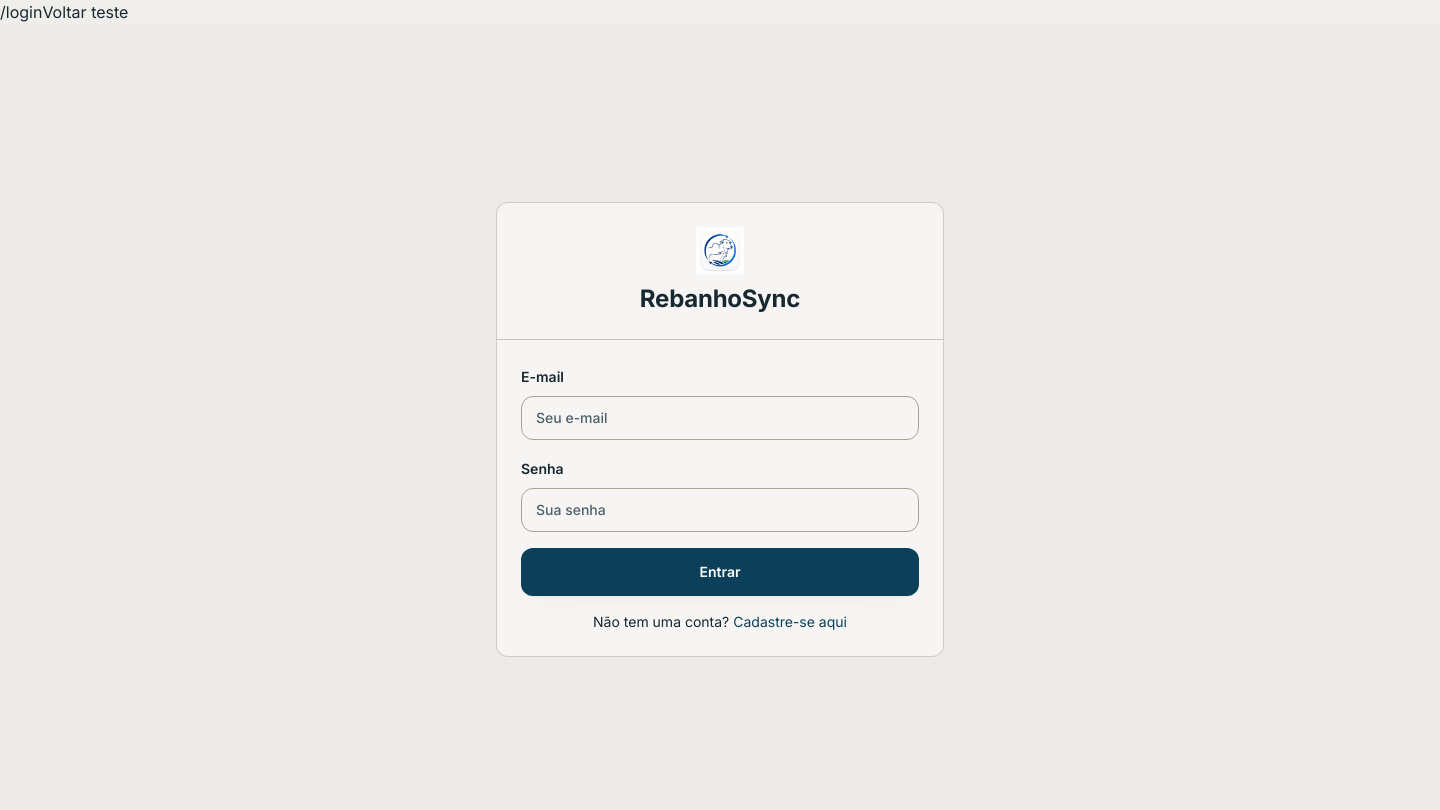
Test case: continuidade de convites na autenticacao › login normal apos autenticacao preserva selecao de fazenda
Type "fixture@example.test" into the field labelled "E-mail" at coordinates (720, 418), box x1=521 y1=396 x2=919 y2=440
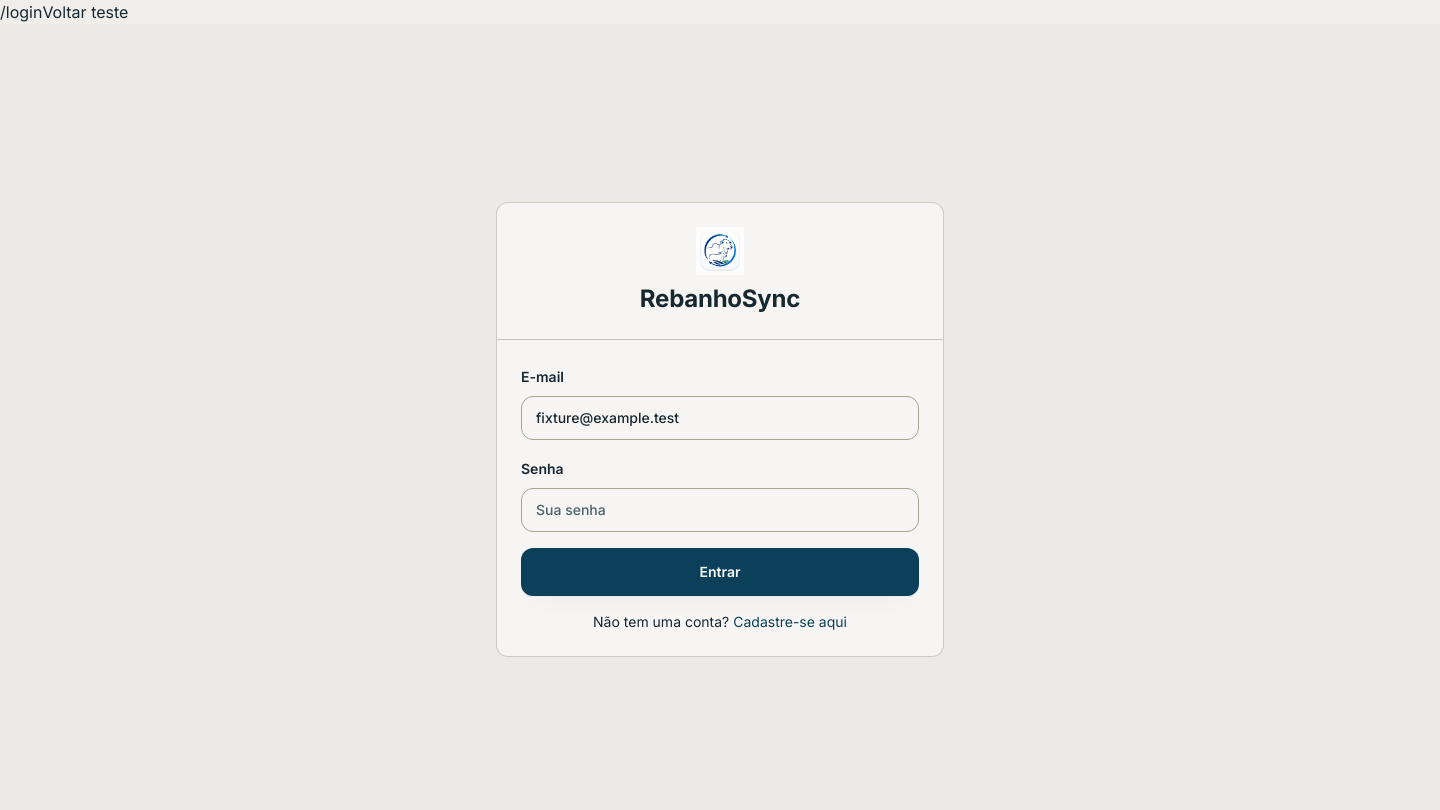
Type "fixture-password" into the password field labelled "Senha" at coordinates (720, 510), box x1=521 y1=488 x2=919 y2=532
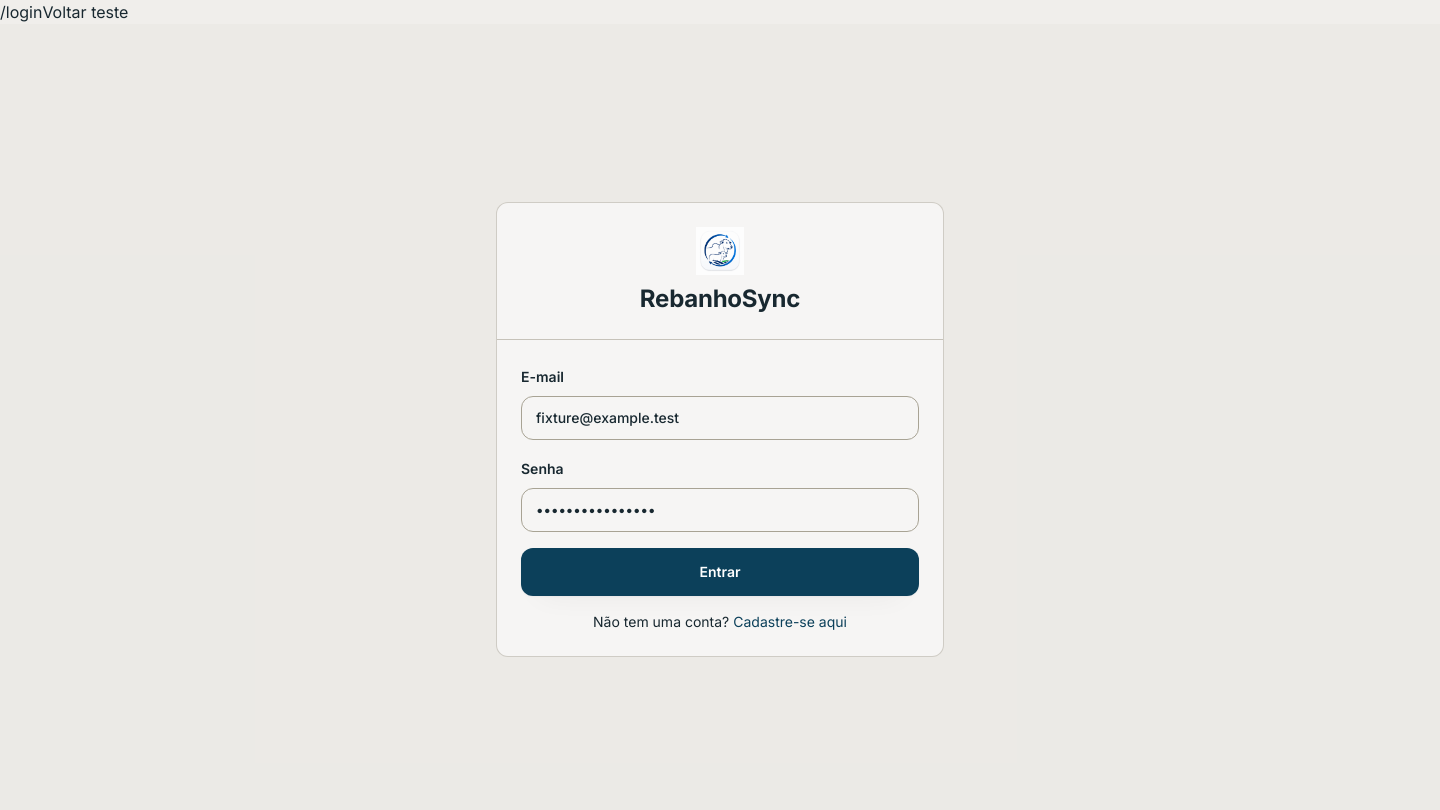
Click the button "Entrar" at coordinates (720, 572), box x1=521 y1=548 x2=919 y2=596
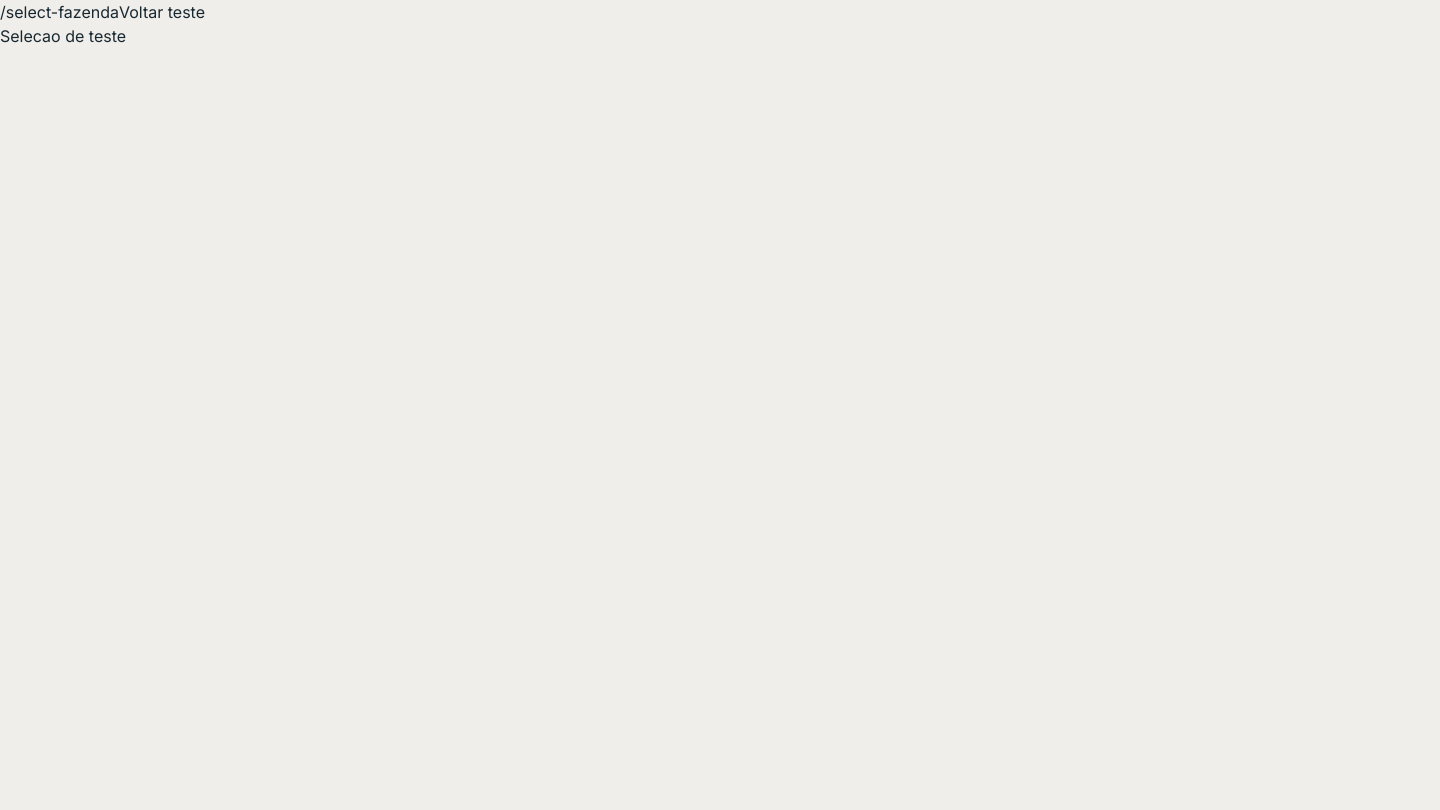
Expected: the text with test id "location" reads "/select-fazenda", x1=0 y1=2 x2=119 y2=22
